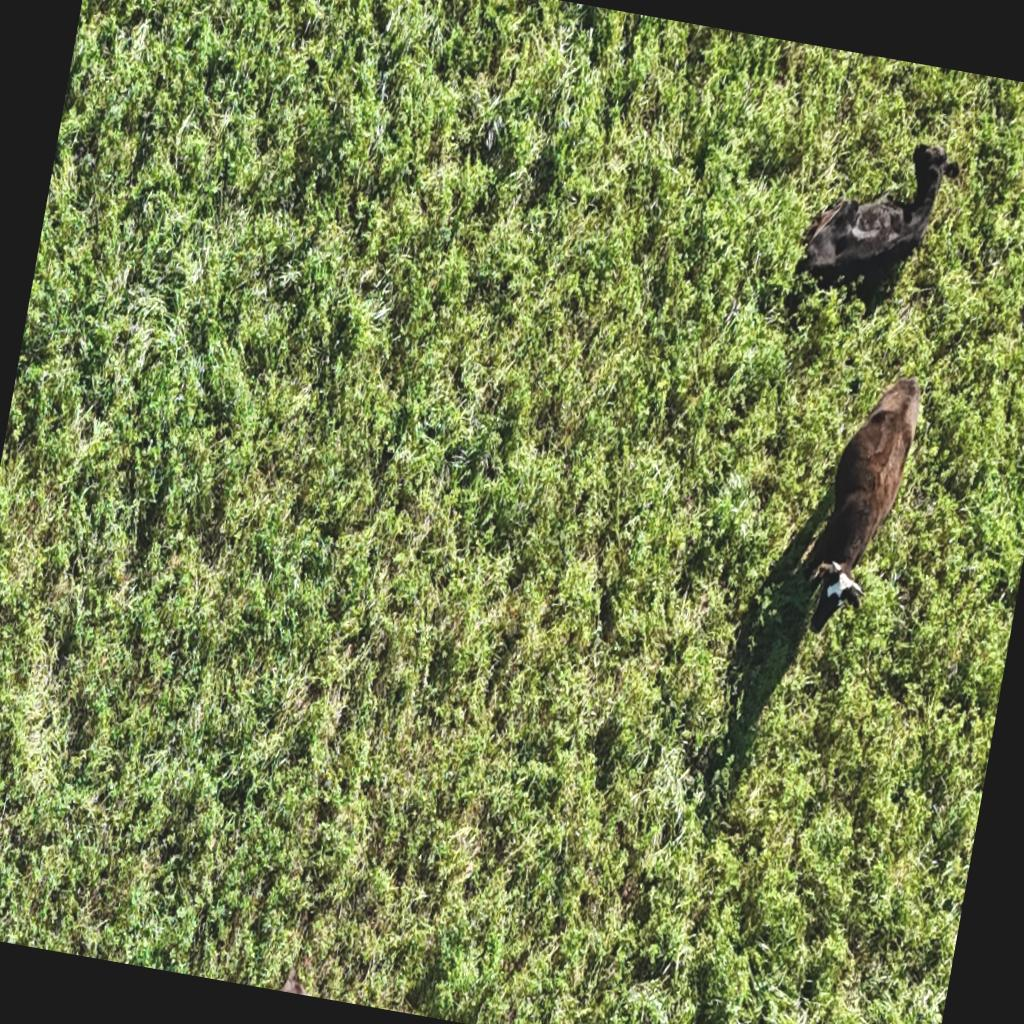cow: (792, 359, 928, 644), (792, 121, 968, 314)
